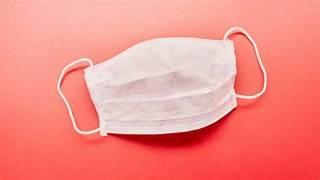Mask: (57, 27, 266, 134)
